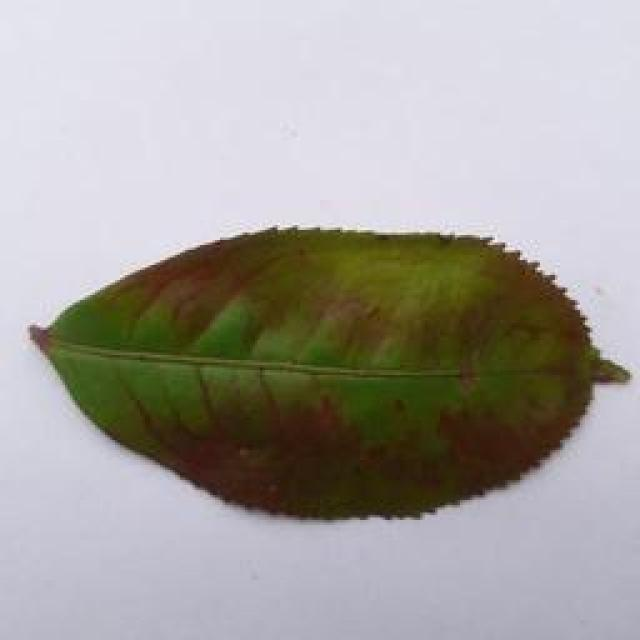Red Leaf Spot: (0, 201, 640, 569)
